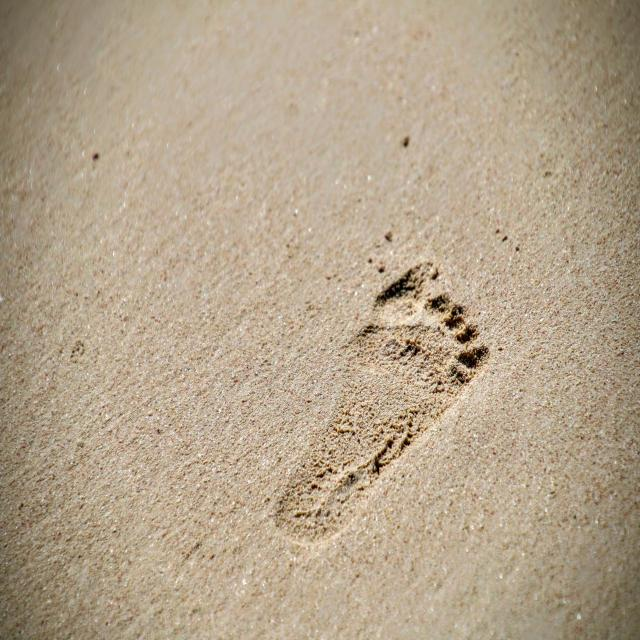human_foot_print: (266, 257, 493, 543)
